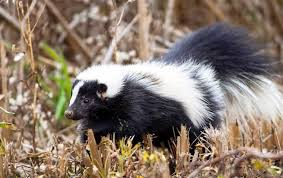skunk: (66, 26, 276, 146)
